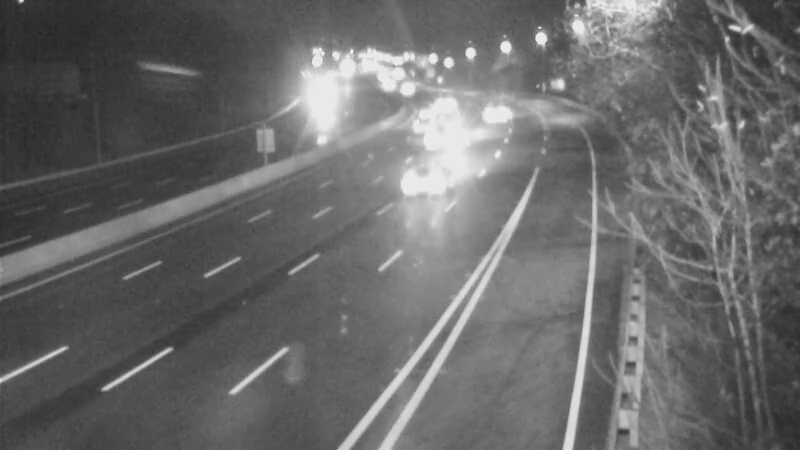vehicle: (388, 137, 468, 217), (381, 64, 431, 114), (417, 76, 467, 126), (470, 85, 520, 135), (401, 95, 451, 145), (416, 117, 466, 167), (293, 74, 343, 124)
